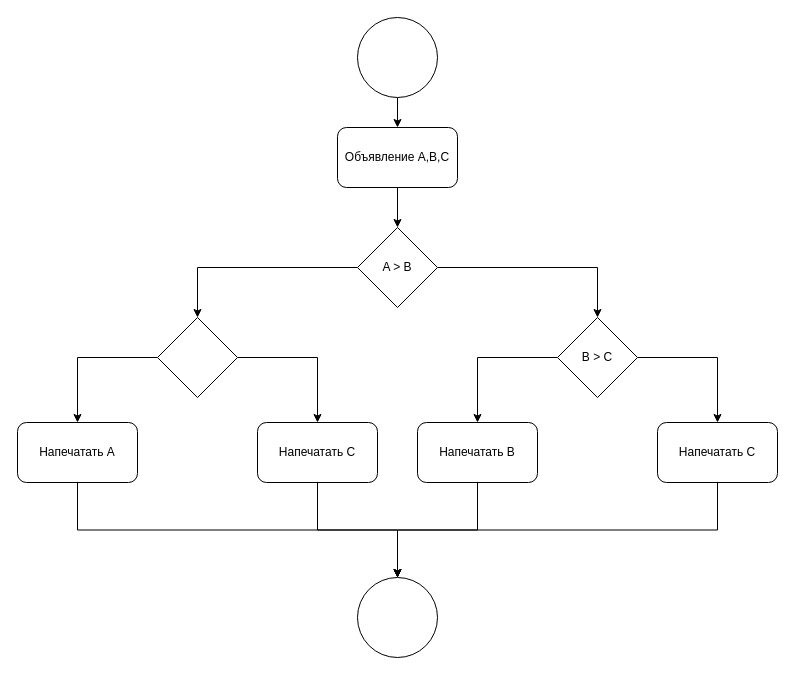
Some shapes in this 795 by 675 pixel diagram are drawn without their labels. The shapes that lost their labels are listed below. From the top down, each one's centre as x and y in pixels, then its label:
At pixel 397 57: "Начало".
At pixel 197 357: "A > C".
At pixel 397 617: "Конец".
